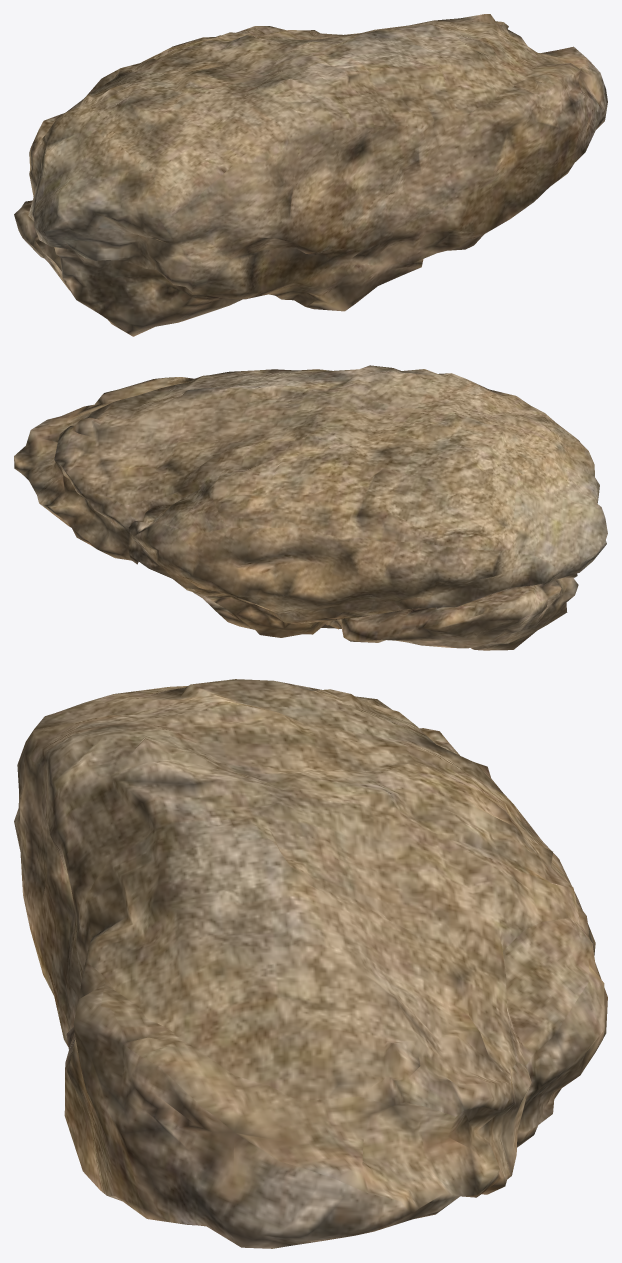
Rendered from namaqualand_boulder_05.glb.
3 views of the same model, one above another, from view 1: azimuth 30°, elevation 25°; view 2: azimuth 150°, elevation 25°; view 3: azimuth 270°, elevation 25° (orthographic). The views are drawn at different scales.
Parts seen in each view (by area): view 1: namaqualand_boulder_05; view 2: namaqualand_boulder_05; view 3: namaqualand_boulder_05.
Boxes of the visible parts, x1,y1,x2,y2 form: namaqualand_boulder_05: [14, 14, 607, 336]; namaqualand_boulder_05: [14, 365, 607, 650]; namaqualand_boulder_05: [14, 679, 607, 1248].
Bounding box in the file's own units: 1.36 × 0.5337 × 0.7462.
1 material, 1 textured.
